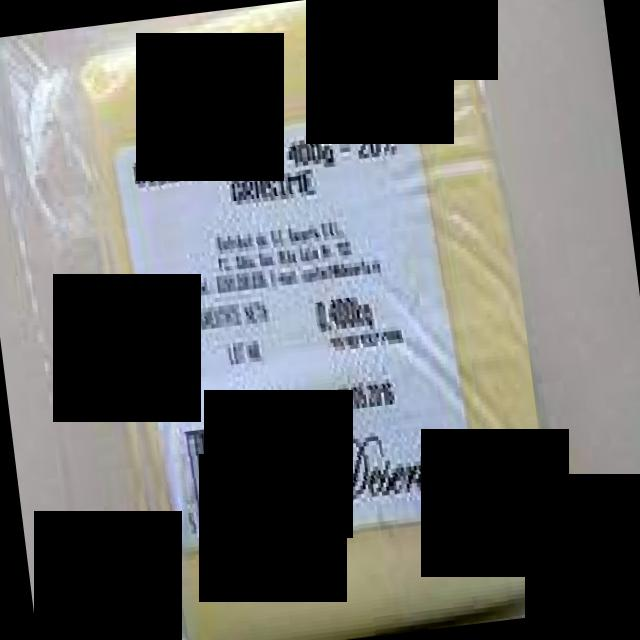cheese: (68, 0, 560, 640)
